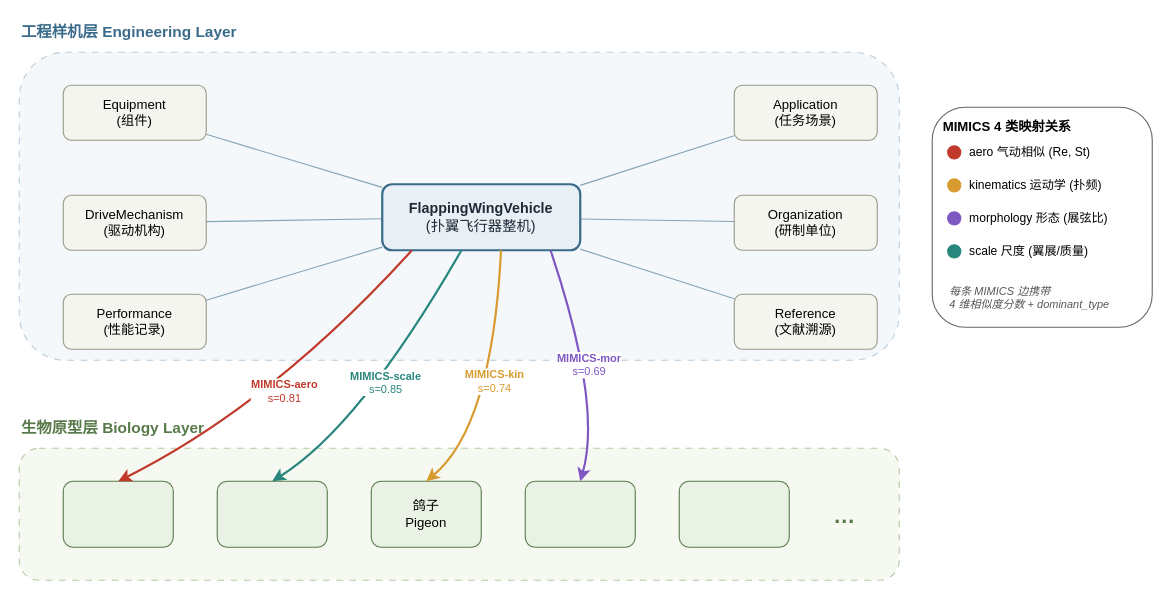
Image size: 1172x600. Some labels were removed from this diagram. Each missing label, with the centre of its shape:
"海鸥 Seagull" belongs at point 579,513.
"苍蝇 Fly" belongs at point 271,513.
"蜂鸟 Hummingbird" belongs at point 117,513.
"蝙蝠 Bat" belongs at point 733,513.
